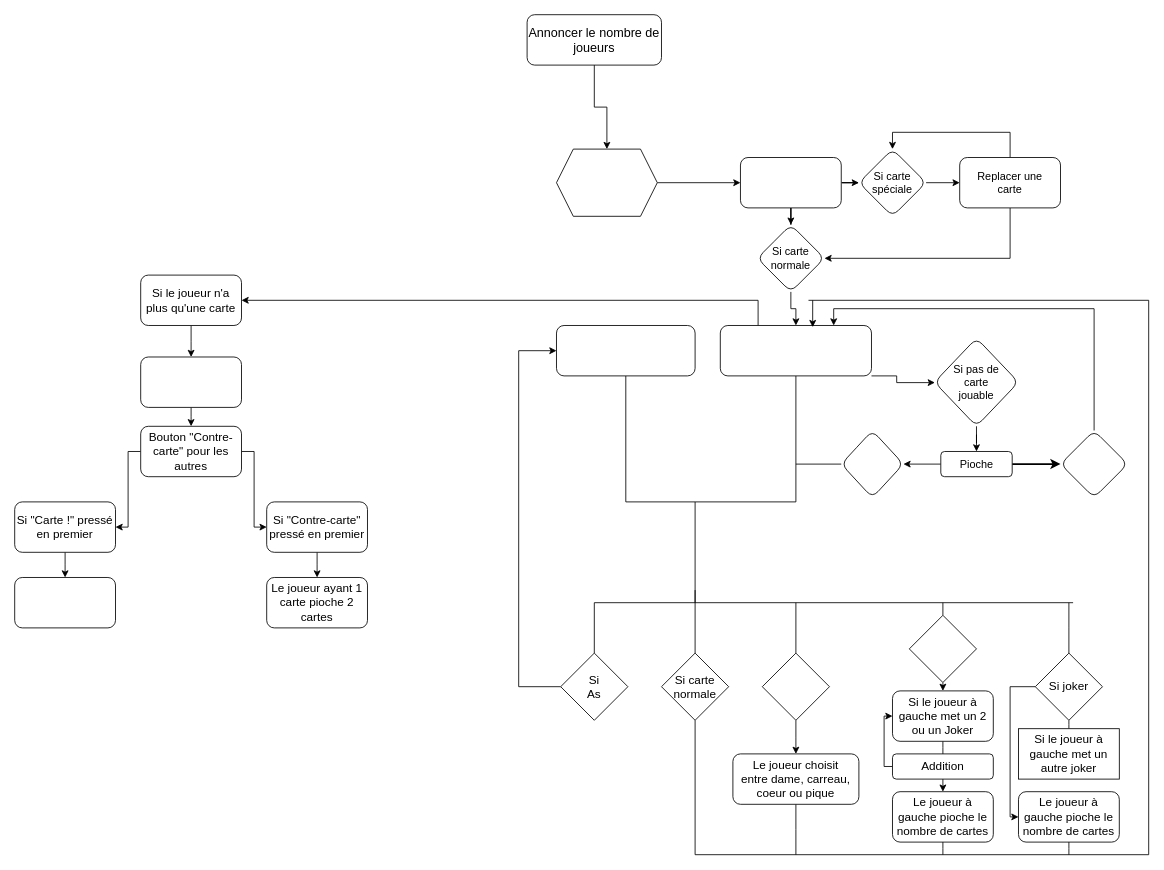
Some shapes in this 1164 by 870 pixel diagram are drawn without their labels. Each missing label, with the centre of its shape:
Bouton "Carte !" Qui s'affiche pour le joueur: [191,381]
Donner 7 Cartes à chaque joueur: [606,182]
Le joueur à droite joue: [625,350]
Le joueur à gauche (du distributeur au premier tour) joue: [795,350]
On place une première carte de la pile: [790,182]
Rien ne se passe: [65,602]
Si 2: [942,648]
Si 8: [795,686]
Si jouable: [871,464]
Si pas jouable: [1094,464]
